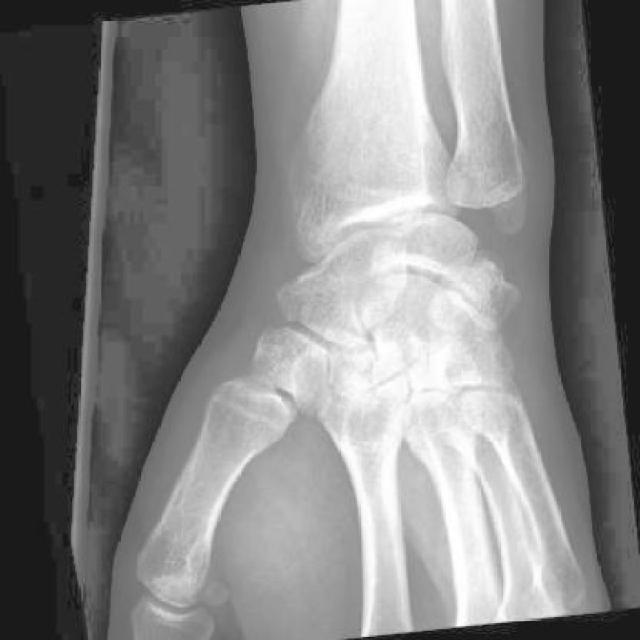Fracture: (279, 297, 316, 328)
